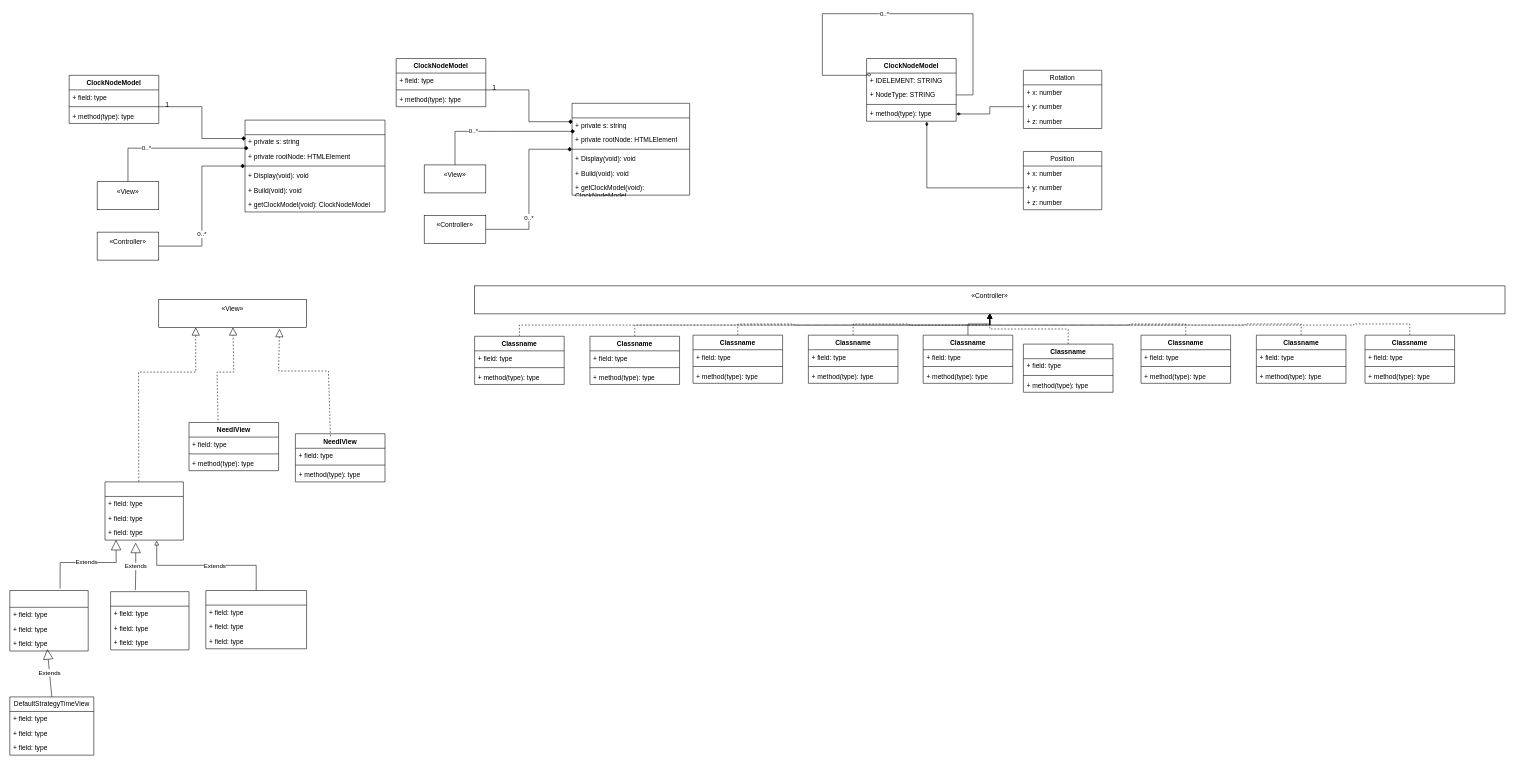
The diagram is 1515 pixels wide and 767 high, and some of its shapes have lost their labels. The shapes that lost their labels are listed below. From the top down, each one's box as (x1, y1, x2, y2) in pixels, then its label:
(244, 120, 385, 212): ElectronicClockDecorator
(571, 103, 690, 195): MecanicalClockDecorator
(104, 481, 183, 540): GenericView
(9, 590, 88, 651): ContainerView
(110, 591, 189, 650): ButtonView
(205, 590, 307, 649): StrategicMecanicalTimeView
